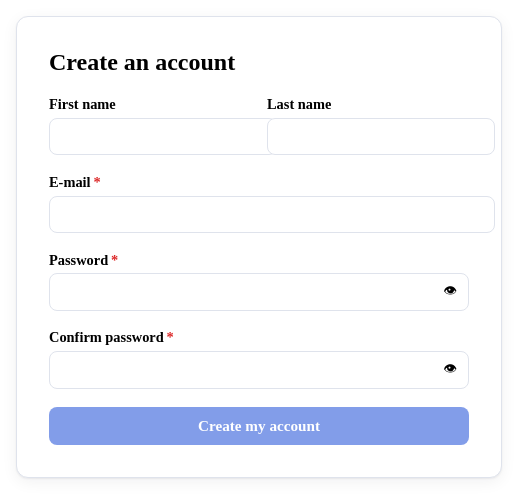
Test: RegisterForm › shows a success message
Type "a@b.c" into the field labelled "E-mail*" at (272, 214), box 49,196 -> 495,233
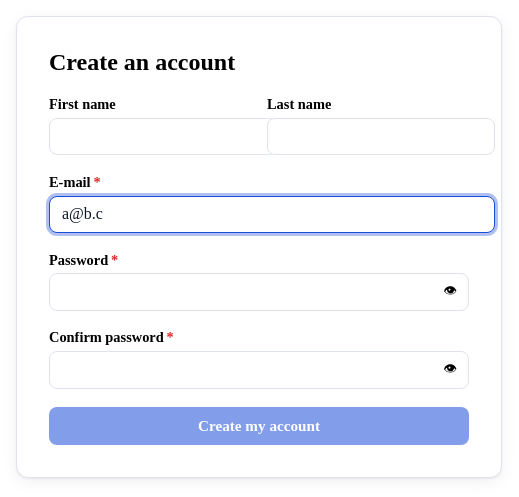
Type "pw-long-enough" into the password field labelled "Password*" at (259, 292), box 49,273 -> 469,311
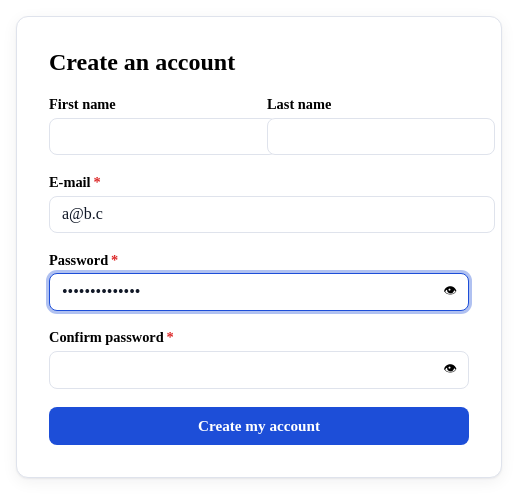
Click the button "Create my account" at (259, 426), box 49,407 -> 469,445
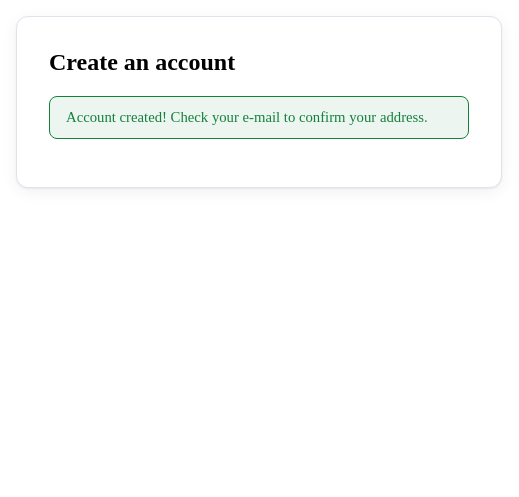
Now the text "Account created! Check your e-mail to confirm your address." is shown, box 66,109 -> 452,126
